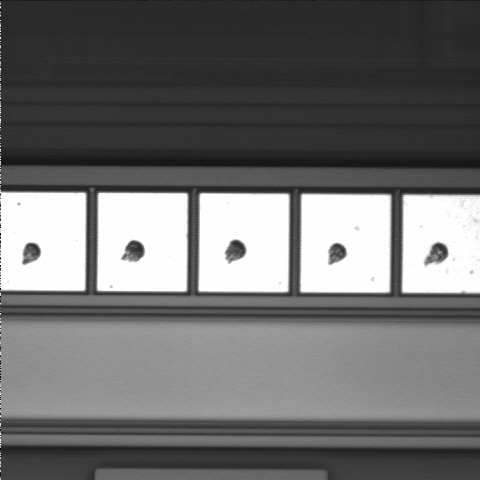pad: (199, 193, 289, 292), (301, 194, 391, 293), (97, 193, 187, 291)
